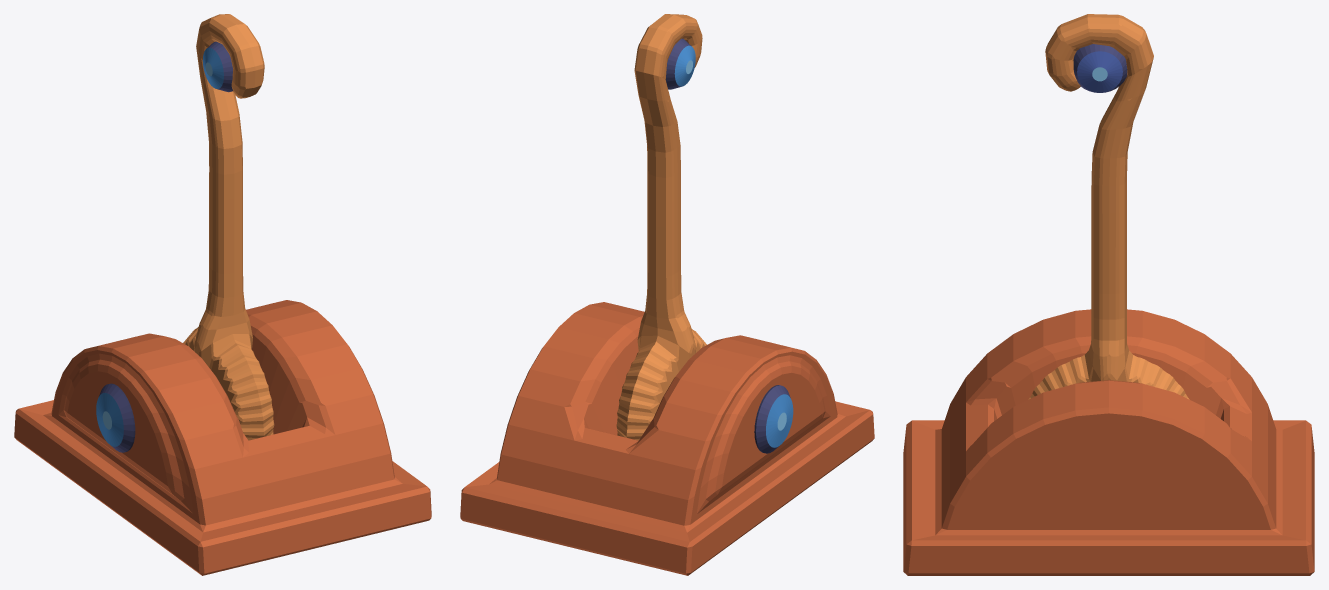
The model's file is G477Proj2Lever.fbx.
The picture shows the model from 3 angles, left to right: view 1: azimuth 30°, elevation 25°; view 2: azimuth 150°, elevation 25°; view 3: azimuth 270°, elevation 25°; orthographic projection. The views are drawn at different scales.
Visible parts, largest first — view 1: LeverBase, LeverHandle, LeverGemBlue; view 2: LeverBase, LeverHandle, LeverGemBlue; view 3: LeverBase, LeverHandle, LeverGemBlue.
Part boxes in pixels (bbox=[...]): LeverBase: bbox=[14, 300, 431, 575]; LeverHandle: bbox=[183, 14, 274, 440]; LeverGemBlue: bbox=[96, 41, 232, 452]; LeverBase: bbox=[460, 302, 874, 575]; LeverHandle: bbox=[616, 14, 706, 440]; LeverGemBlue: bbox=[665, 38, 793, 453]; LeverBase: bbox=[903, 309, 1314, 575]; LeverHandle: bbox=[1028, 14, 1189, 399]; LeverGemBlue: bbox=[1073, 44, 1127, 92].
Bounding box in the file's own units: 66.12 × 126 × 93.44.
